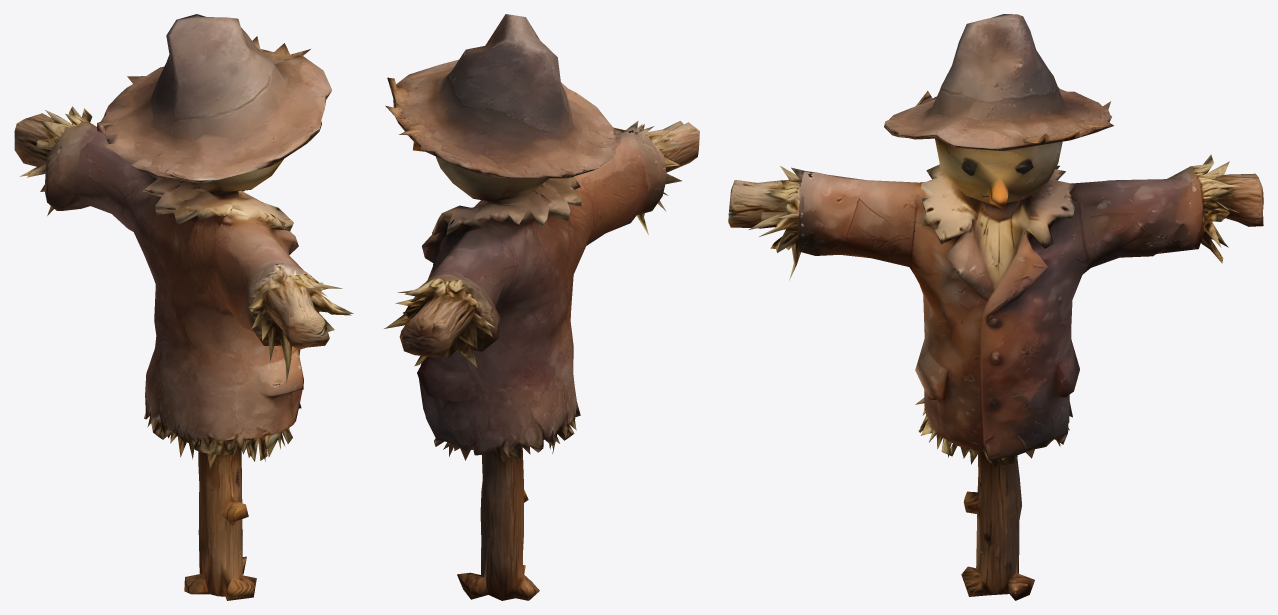
The model's file is kh_scarecrow.glb.
3 renders of one model, left to right at view 1: azimuth 30°, elevation 25°; view 2: azimuth 150°, elevation 25°; view 3: azimuth 270°, elevation 25°, orthographic. The views are drawn at different scales.
Parts seen in each view (by area): view 1: tripo_node_9e811117-cae7-43c9-ac81-3c9a4f39a784; view 2: tripo_node_9e811117-cae7-43c9-ac81-3c9a4f39a784; view 3: tripo_node_9e811117-cae7-43c9-ac81-3c9a4f39a784.
Part boxes in pixels (left/top/right/bottom): tripo_node_9e811117-cae7-43c9-ac81-3c9a4f39a784: left=14, top=14, right=353, bottom=600; tripo_node_9e811117-cae7-43c9-ac81-3c9a4f39a784: left=384, top=14, right=699, bottom=600; tripo_node_9e811117-cae7-43c9-ac81-3c9a4f39a784: left=728, top=14, right=1263, bottom=600.
Bounding box in the file's own units: 0.3825 × 1 × 0.8553.
Materials: 1 (1 with a texture image).
